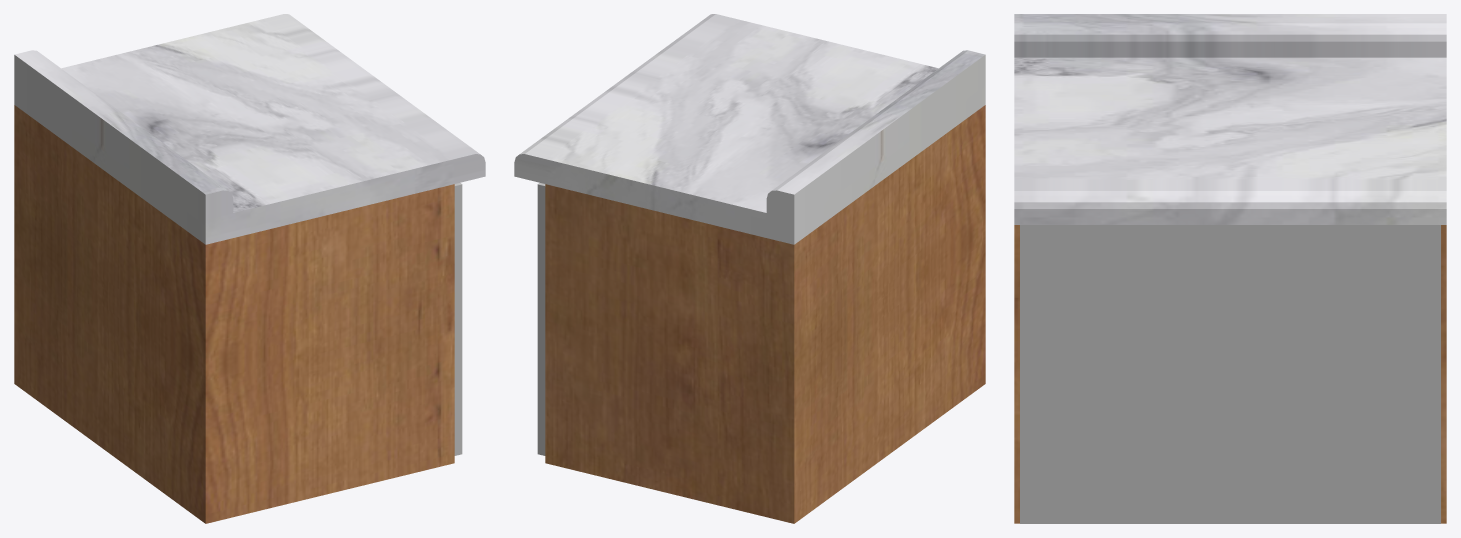
The model's file is countertop2.fbx.
The picture shows the model from 3 angles, left to right: view 1: azimuth 30°, elevation 25°; view 2: azimuth 150°, elevation 25°; view 3: azimuth 270°, elevation 25°; orthographic projection. The views are drawn at different scales.
Visible parts, largest first — view 1: Cube; view 2: Cube; view 3: Cube.
Boxes of the visible parts, x1,y1,x2,y2 form: Cube: [14, 14, 485, 523]; Cube: [514, 14, 985, 523]; Cube: [1014, 14, 1446, 523].
Bounding box in the file's own units: 135 × 152 × 160.
Materials: 3 (2 with a texture image).
